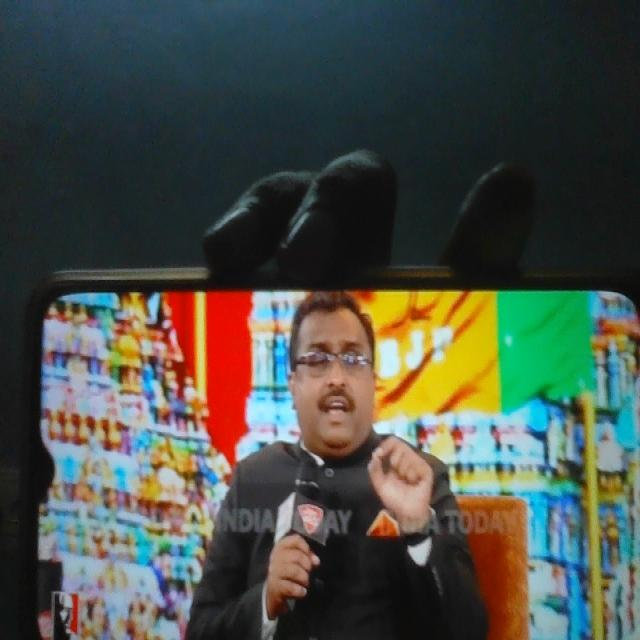fake: (278, 250, 388, 458)
